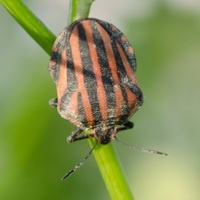insect: (49, 18, 142, 143)
